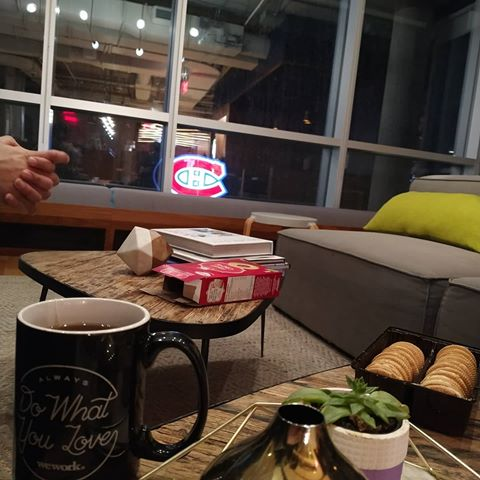wework: (35, 457, 81, 472)
